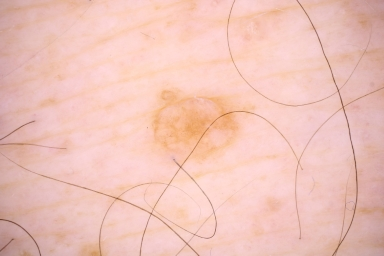melanoma: (153, 90, 240, 155)
